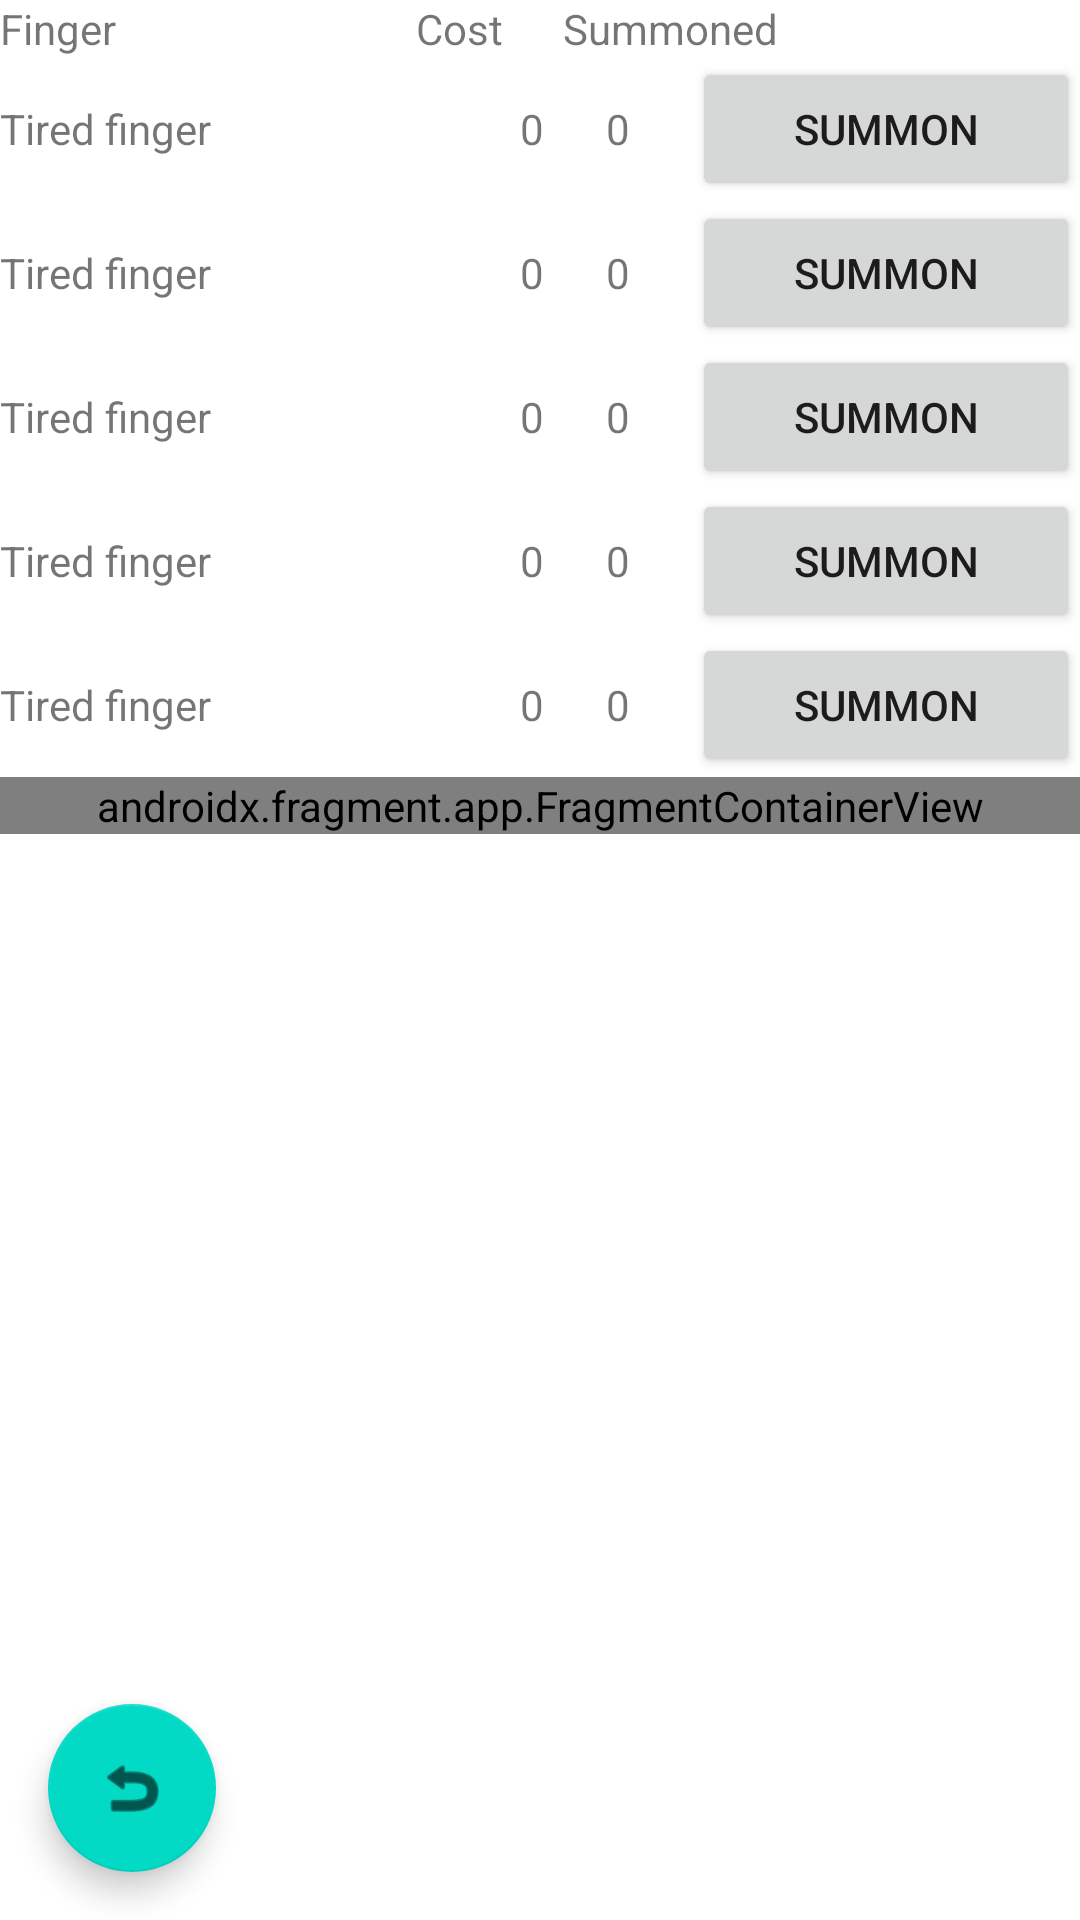

Icon bounding boxes for this 1080px x 1920px phone screenshot, format (x1, y1, x2, y2):
Back to main screen: (48, 1704, 216, 1872)
